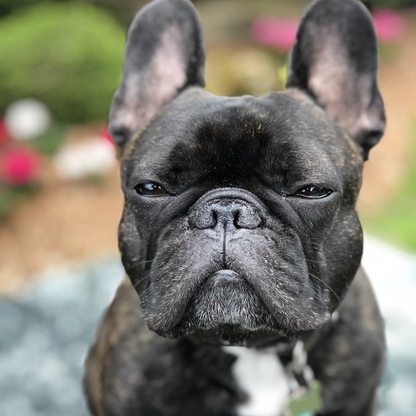bulldog: (80, 3, 394, 409)
